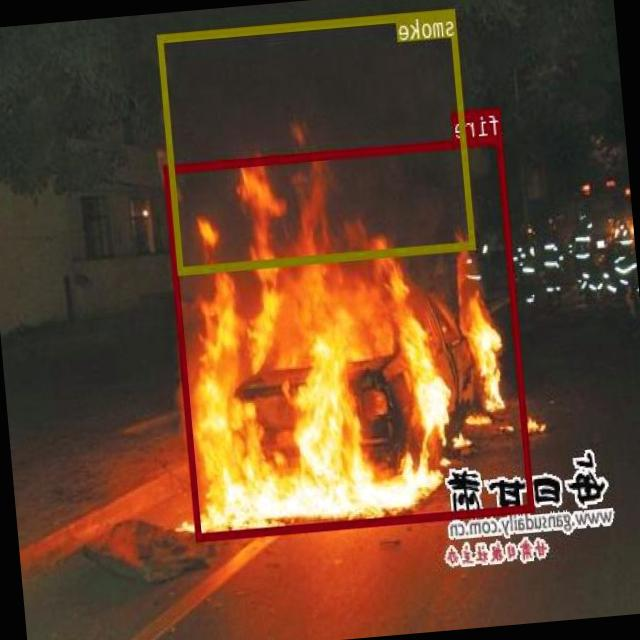fire: (164, 134, 535, 540)
smoke: (158, 8, 476, 274)
